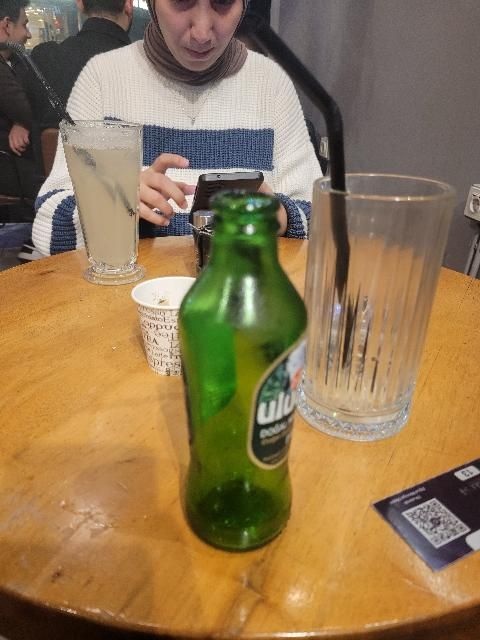Cam: (171, 194, 310, 547), (292, 163, 442, 444), (52, 118, 150, 290)
Kagit: (126, 277, 203, 383)
Plastik: (258, 22, 350, 353)
